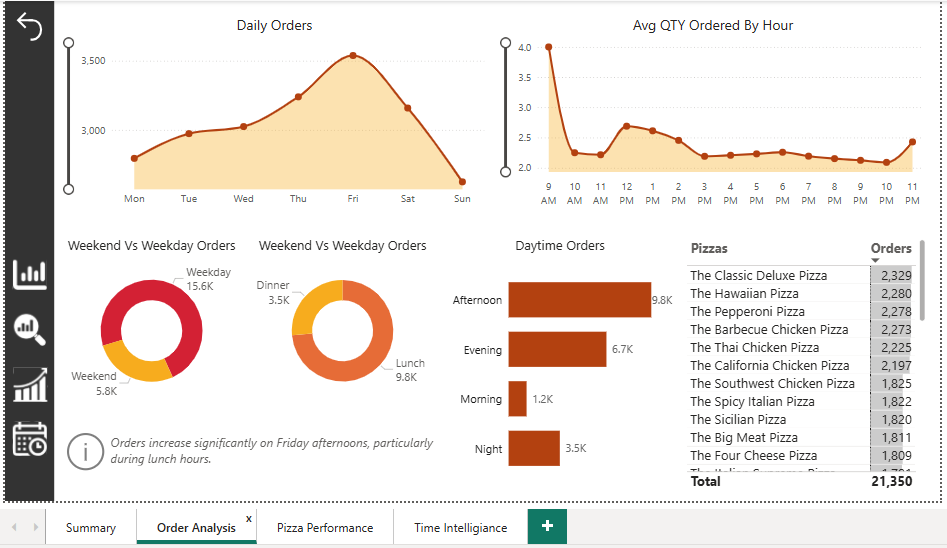

Layout of this report page (visuals, bound fields, positions):
{"tool":"powerbi","page":{"name":"Order Analysis","canvas":[1345,720],"ordinal":1},"visuals":[{"type":"shape","box":[0,0,70.9,720.2],"z":0},{"type":"lineChart","title":"Daily Orders","fields":{"Y":["Measures Table.Total Orders 2"],"Category":["Date.Short Day Name"]},"box":[81.2,20.3,614.5,284.1],"z":1000},{"type":"donutChart","title":"Weekend Vs Weekday Orders","fields":{"Category":["Orders.Weekday Orders"],"Y":["Measures Table.Total Orders 2"]},"box":[81.2,337.7,260.9,247.8],"z":2000},{"type":"donutChart","title":"Weekend Vs Weekday Orders","fields":{"Category":["Orders.Order by Time"],"Y":["Measures Table.Total Orders 2"]},"box":[356.5,337.7,258,247.8],"z":3000},{"type":"tableEx","title":"Top 10 Pizzas","fields":{"Values":["Pizza Types.name","Measures Table.Total Orders 2"]},"box":[976.9,337.7,353.6,369.6],"z":4000},{"type":"clusteredBarChart","title":"Daytime Orders","fields":{"Category":["Orders.Time Name"],"Y":["Measures Table.Total Orders 2"]},"box":[632,338.4,334.1,367.3],"z":5000},{"type":"lineChart","title":"Avg QTY Ordered By Hour","fields":{"Category":["Orders.Time AM/PM"],"Y":["Measures Table.Avg Pizza Per Order"]},"box":[710.2,20.3,618.9,284.1],"z":7000},{"type":"actionButton","box":[7.5,444.8,64.6,57.1],"z":8000},{"type":"actionButton","box":[0,523.5,72.1,57.1],"z":9000},{"type":"actionButton","box":[7.5,602.1,63.1,57.1],"z":10000},{"type":"actionButton","box":[7.5,366.2,63.1,57.1],"z":11000},{"type":"actionButton","box":[82.6,614.5,549.3,68.1],"z":12000},{"type":"actionButton","box":[8.7,8.7,53.5,56.4],"z":13000}]}

Visuals, with their boxes on the page's 1345x720 design canvas (x1, y1, x2, y2). These are canvas units, not pixel positions in the 947x548 screenshot, which may show the page scaled, cropped or inside an application window:
shape: (0, 0, 71, 720)
"Daily Orders" lineChart: (81, 20, 696, 304)
"Weekend Vs Weekday Orders" donutChart: (81, 338, 342, 586)
"Weekend Vs Weekday Orders" donutChart: (356, 338, 614, 586)
"Top 10 Pizzas" tableEx: (977, 338, 1330, 707)
"Daytime Orders" clusteredBarChart: (632, 338, 966, 706)
"Avg QTY Ordered By Hour" lineChart: (710, 20, 1329, 304)
actionButton: (8, 445, 72, 502)
actionButton: (0, 524, 72, 581)
actionButton: (8, 602, 71, 659)
actionButton: (8, 366, 71, 423)
actionButton: (83, 614, 632, 683)
actionButton: (9, 9, 62, 65)
